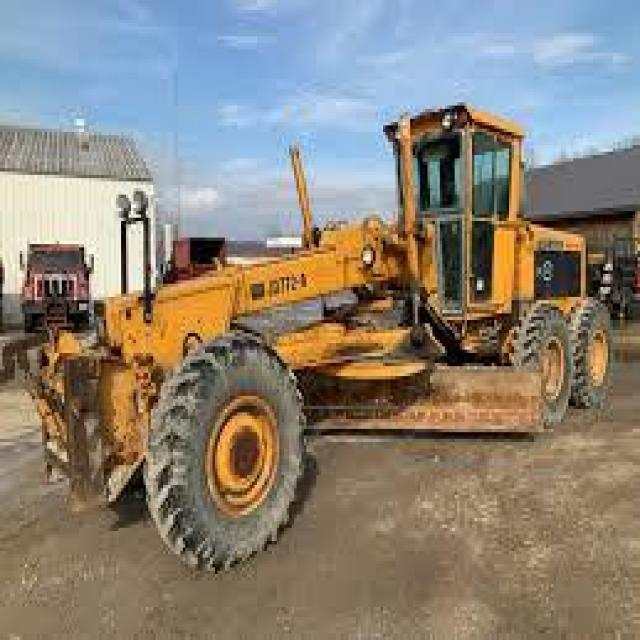bull_dozer/loader/grader: (42, 96, 620, 577)
